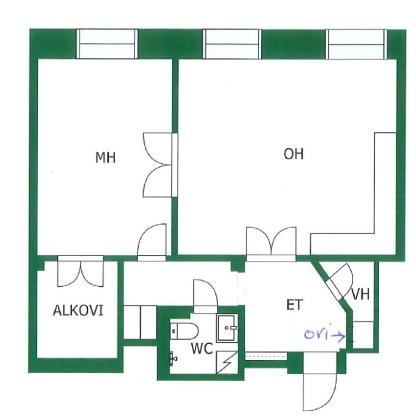door: (179, 59, 396, 253), (40, 58, 170, 254), (124, 261, 348, 351), (37, 261, 118, 356), (320, 259, 375, 349), (168, 312, 239, 374)
window: (143, 130, 179, 198), (304, 352, 336, 412), (244, 228, 296, 261), (56, 256, 104, 291), (138, 222, 169, 263), (192, 278, 218, 314)
zone: (76, 28, 138, 58), (202, 29, 262, 60), (326, 30, 386, 60)
